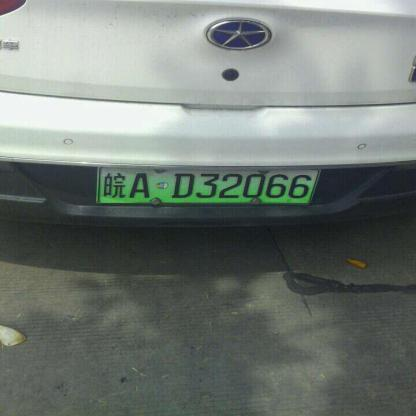lp: (99, 167, 318, 202)
